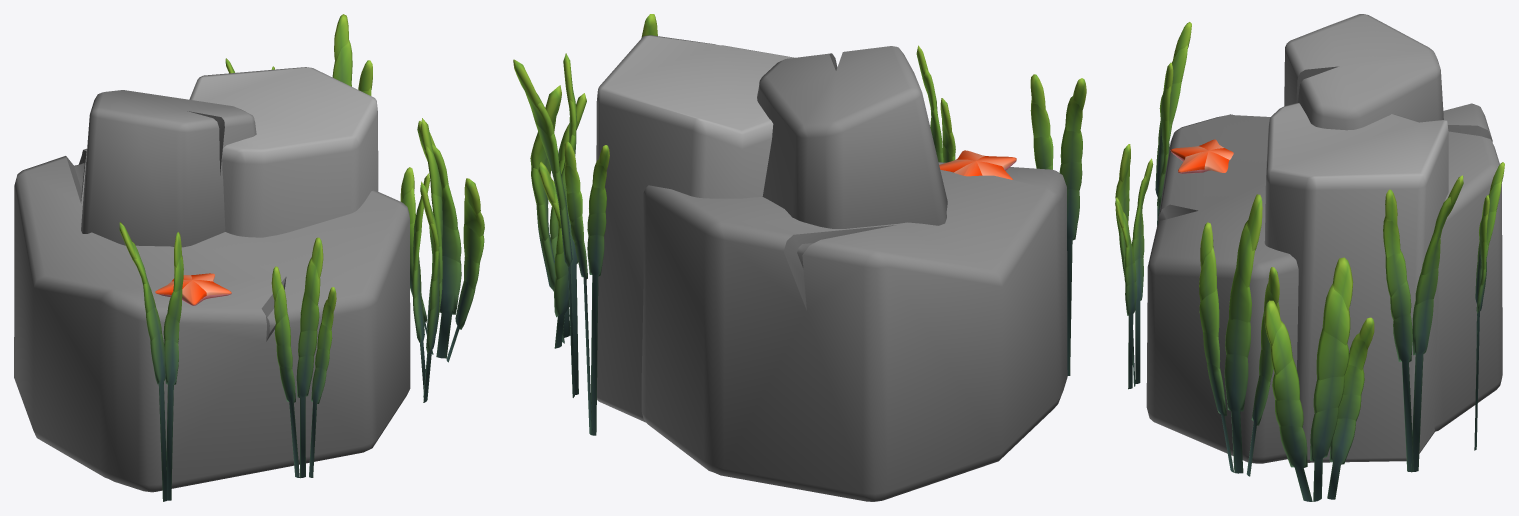
File: Rock_Cluster_Moss_01.fbx
The picture shows the model from 3 angles, left to right: view 1: azimuth 30°, elevation 25°; view 2: azimuth 150°, elevation 25°; view 3: azimuth 270°, elevation 25°; orthographic projection. The views are drawn at different scales.
Visible parts, largest first — view 1: Rock_Cluster_Moss_01; view 2: Rock_Cluster_Moss_01; view 3: Rock_Cluster_Moss_01.
Boxes of the visible parts, <box> form: Rock_Cluster_Moss_01: <box>14,14,484,501</box>; Rock_Cluster_Moss_01: <box>513,14,1086,501</box>; Rock_Cluster_Moss_01: <box>1115,14,1504,501</box>.
Bounding box in the file's own units: 429 × 308 × 336.
